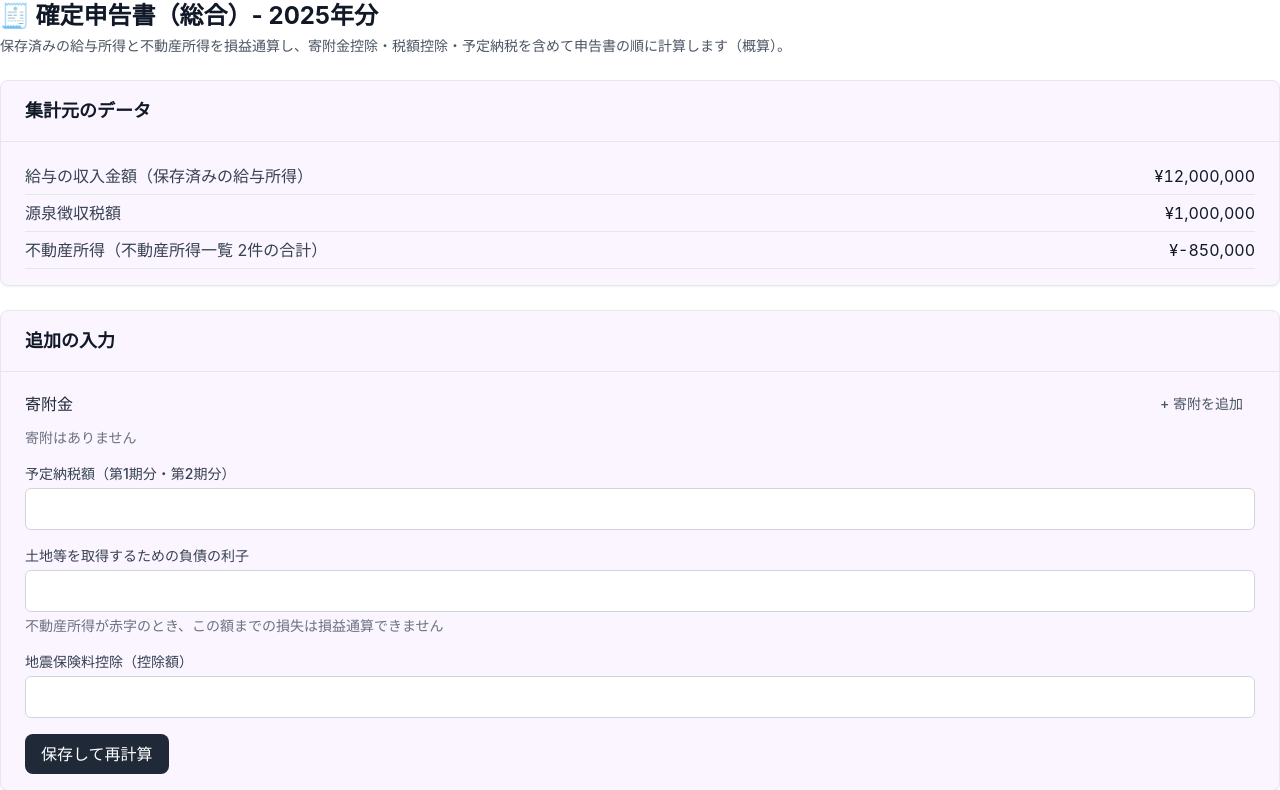
it: TaxReturnModule › 寄附を追加して保存すると、その内容をPUTし、結果を更新する
Click the button "+ 寄附を追加".
click(1201, 404)  # box [1148, 388, 1255, 420]
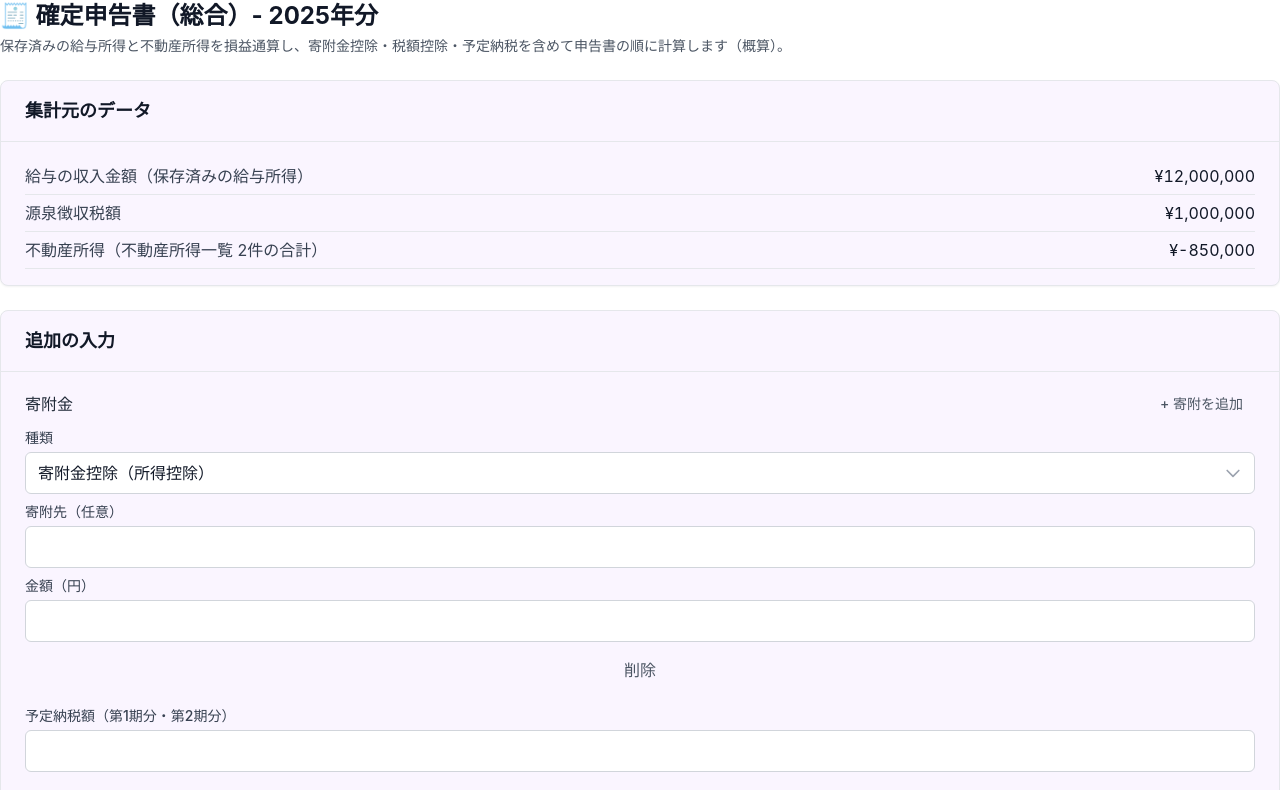
Select "認定NPO法人等寄附金特別控除（税額控除）" in the dropdown labelled "種類" at [640, 473], box [25, 452, 1255, 494]
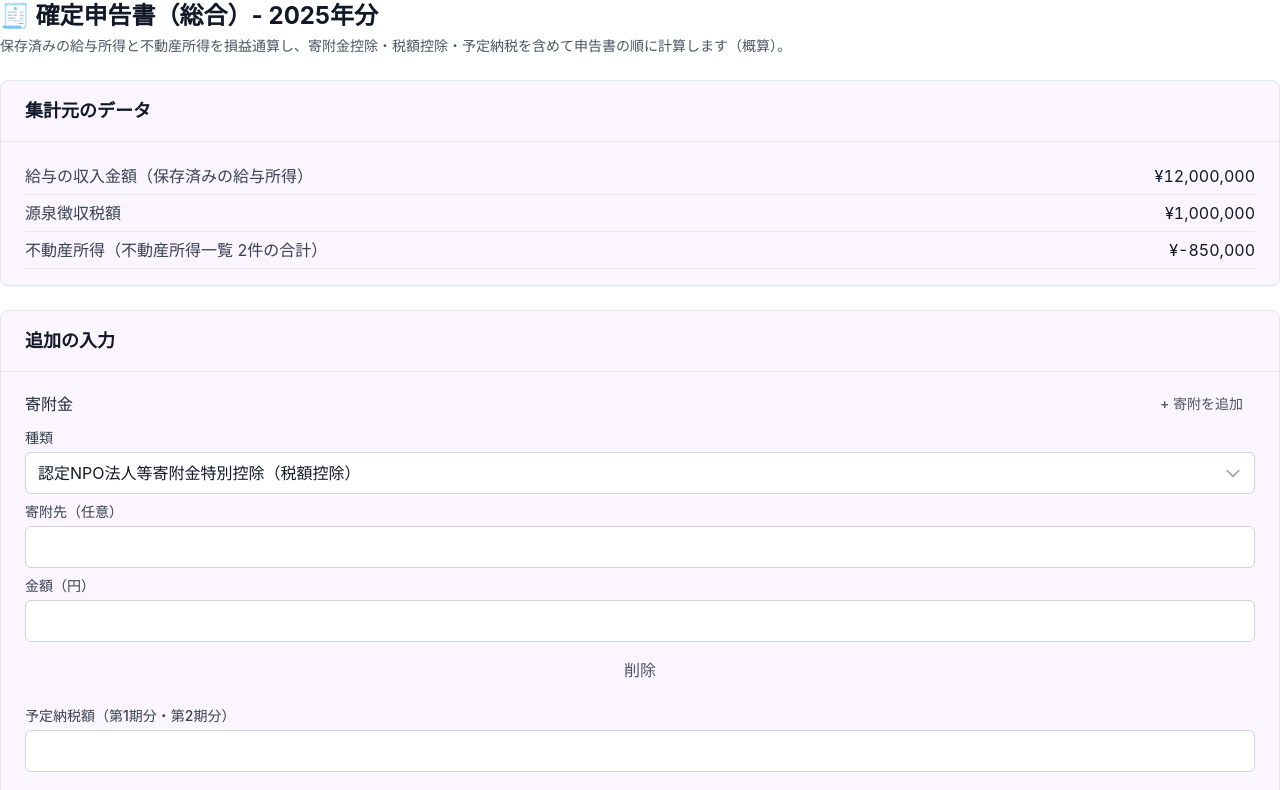
Type "NPO" into the field labelled "寄附先（任意）".
click(640, 547); type("NPO")  # box [25, 526, 1255, 568]
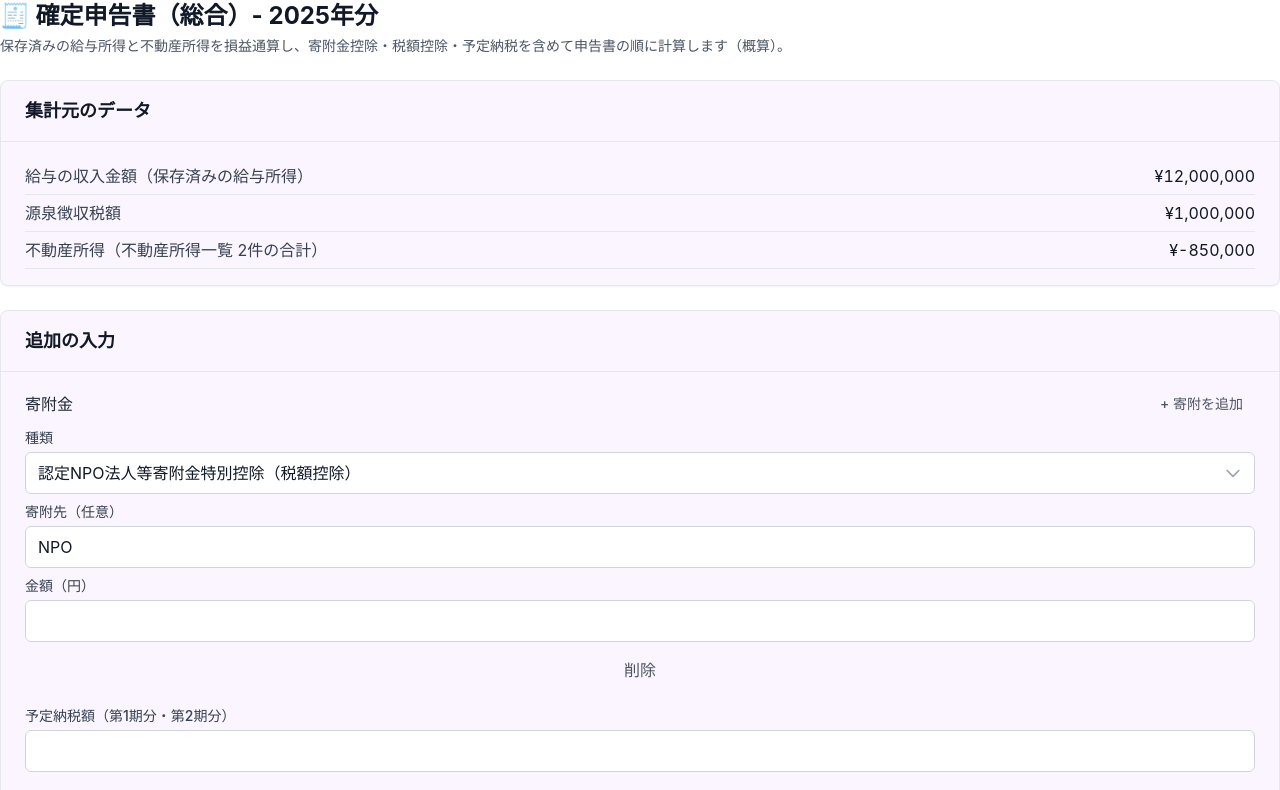
Type "30,000" into the field labelled "金額（円）".
click(640, 621); type("30,000")  # box [25, 600, 1255, 642]
(page scrolled)
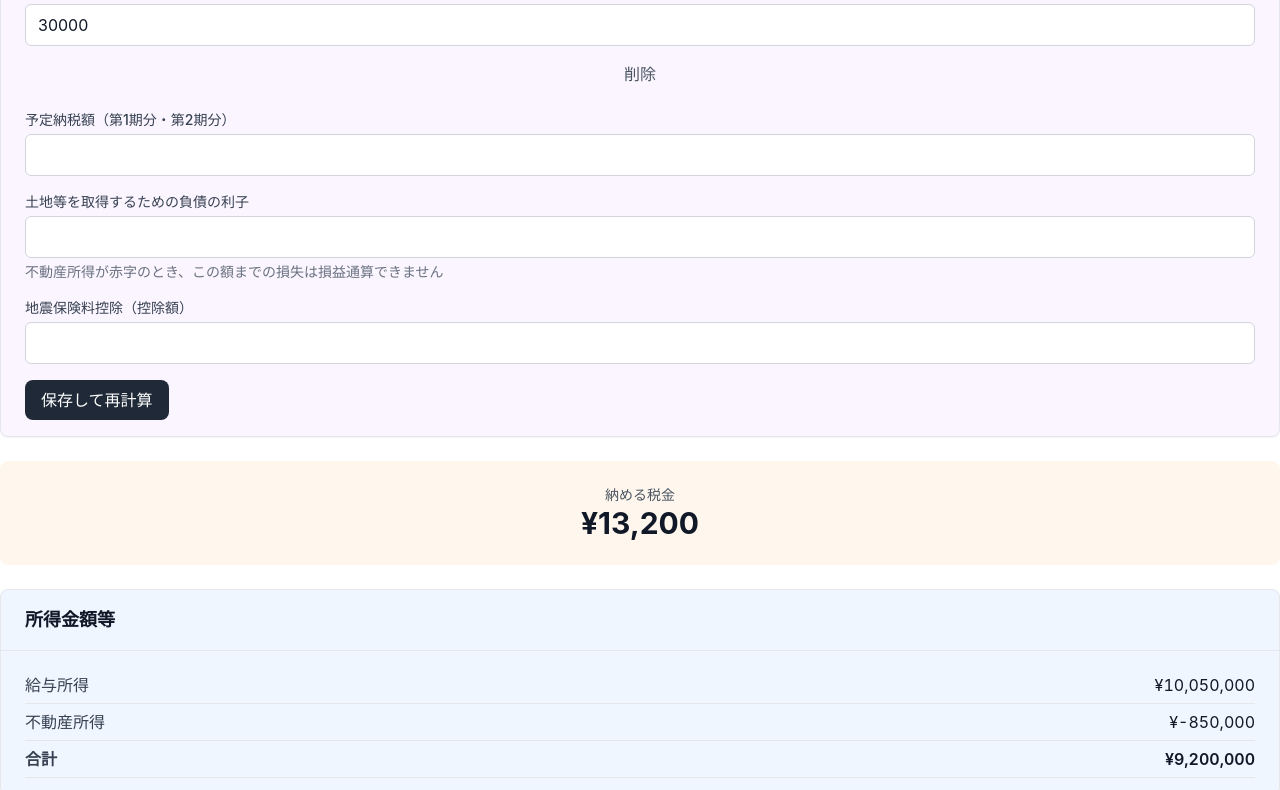
Click the button "保存して再計算".
click(97, 400)  # box [25, 380, 168, 420]
(page scrolled)
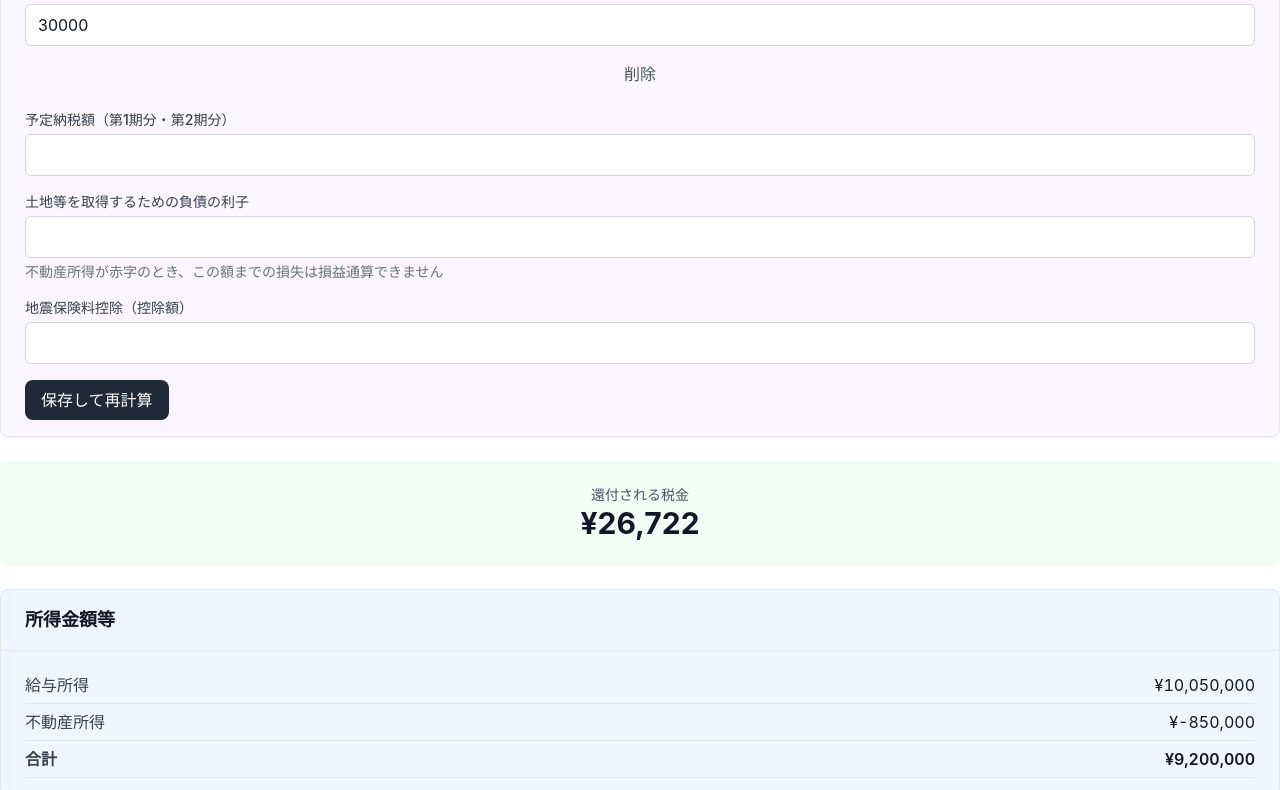
Check: the text "還付される税金" is shown, box [591, 486, 689, 503]
Check: the text with test id "tax-return-amount" reads "¥26,722", box [580, 505, 700, 541]
